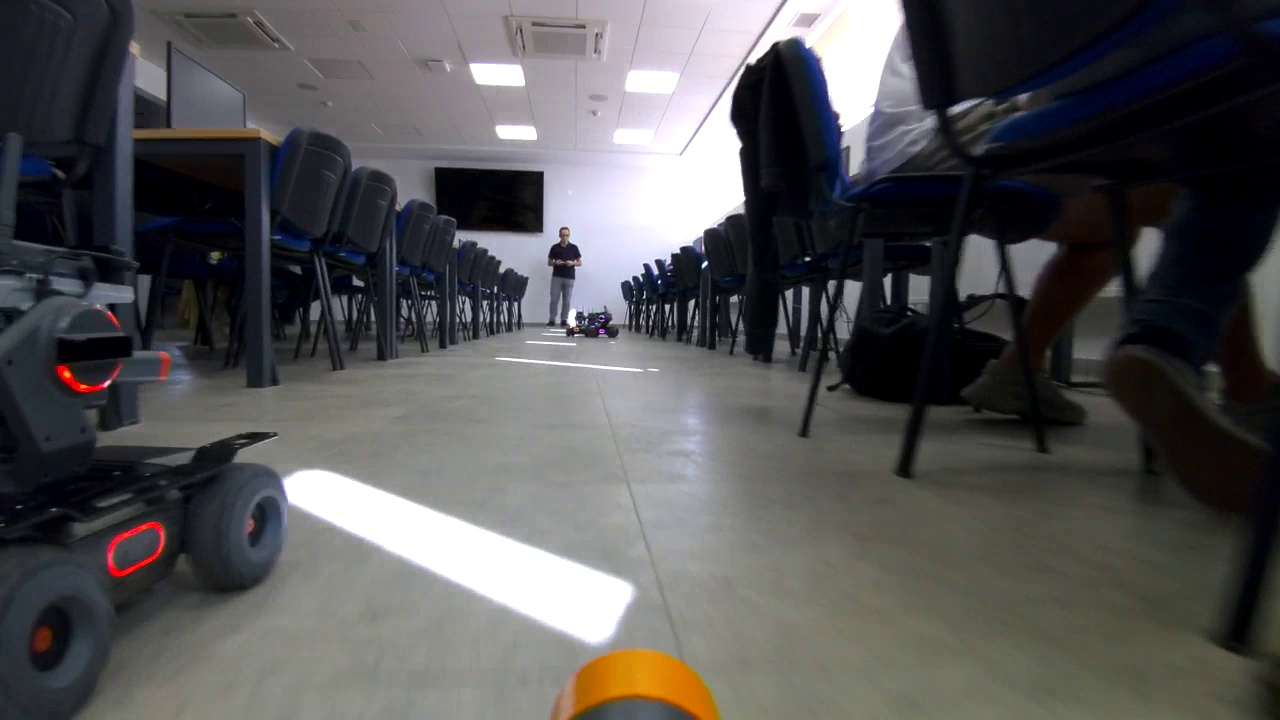robot: (1, 241, 312, 717)
